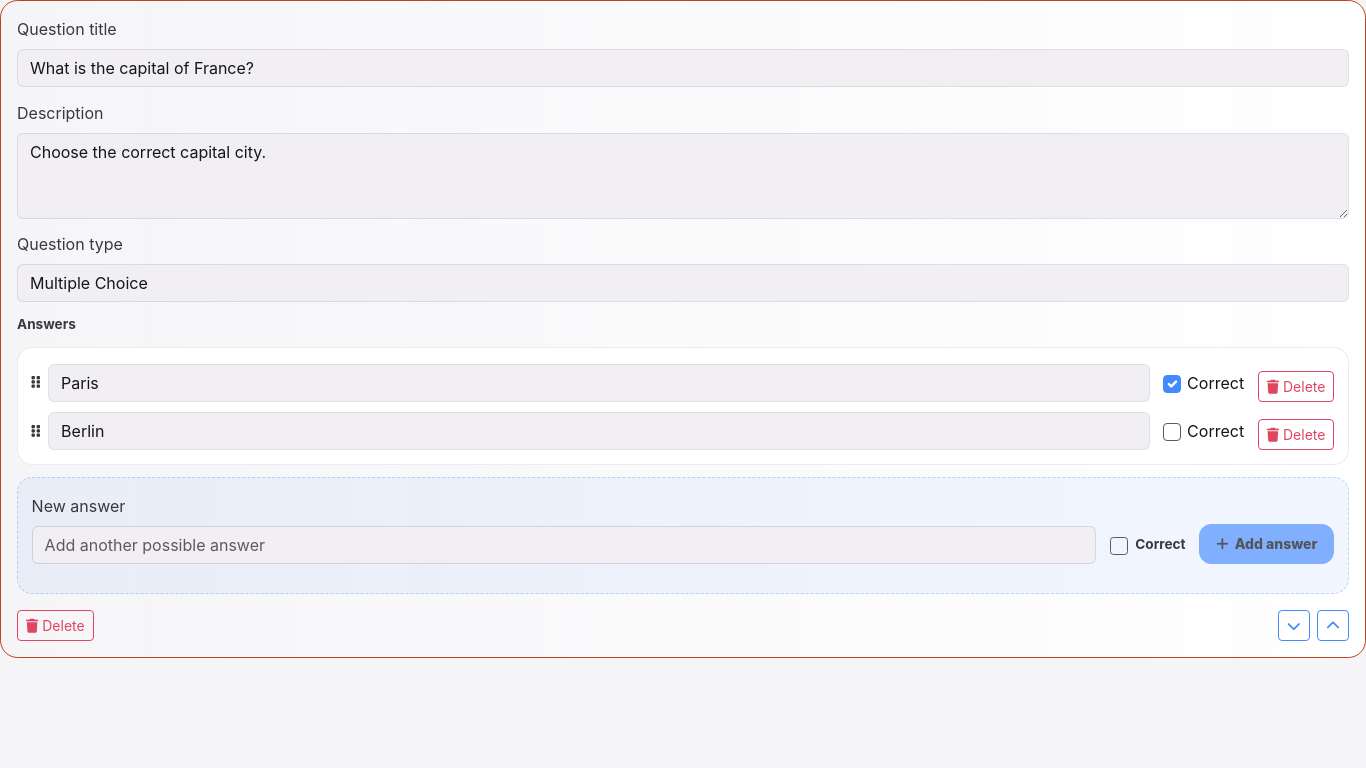
QuestionCard › shows error when creating answer fails
Type "Rome" into the field with placeholder "Add another possible answer".
click(564, 545); type("Rome")  # box [32, 526, 1096, 564]
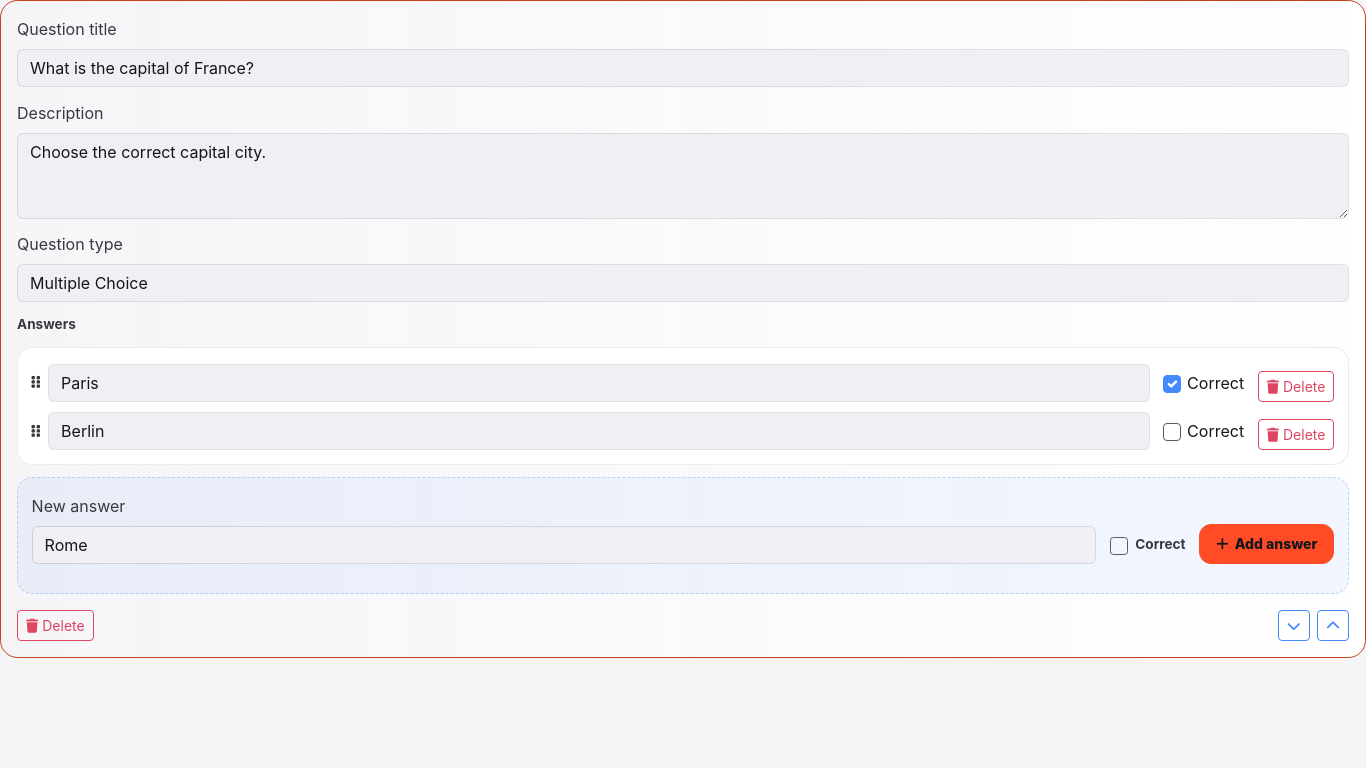
Click the button "Add answer".
click(1267, 544)  # box [1199, 524, 1334, 564]
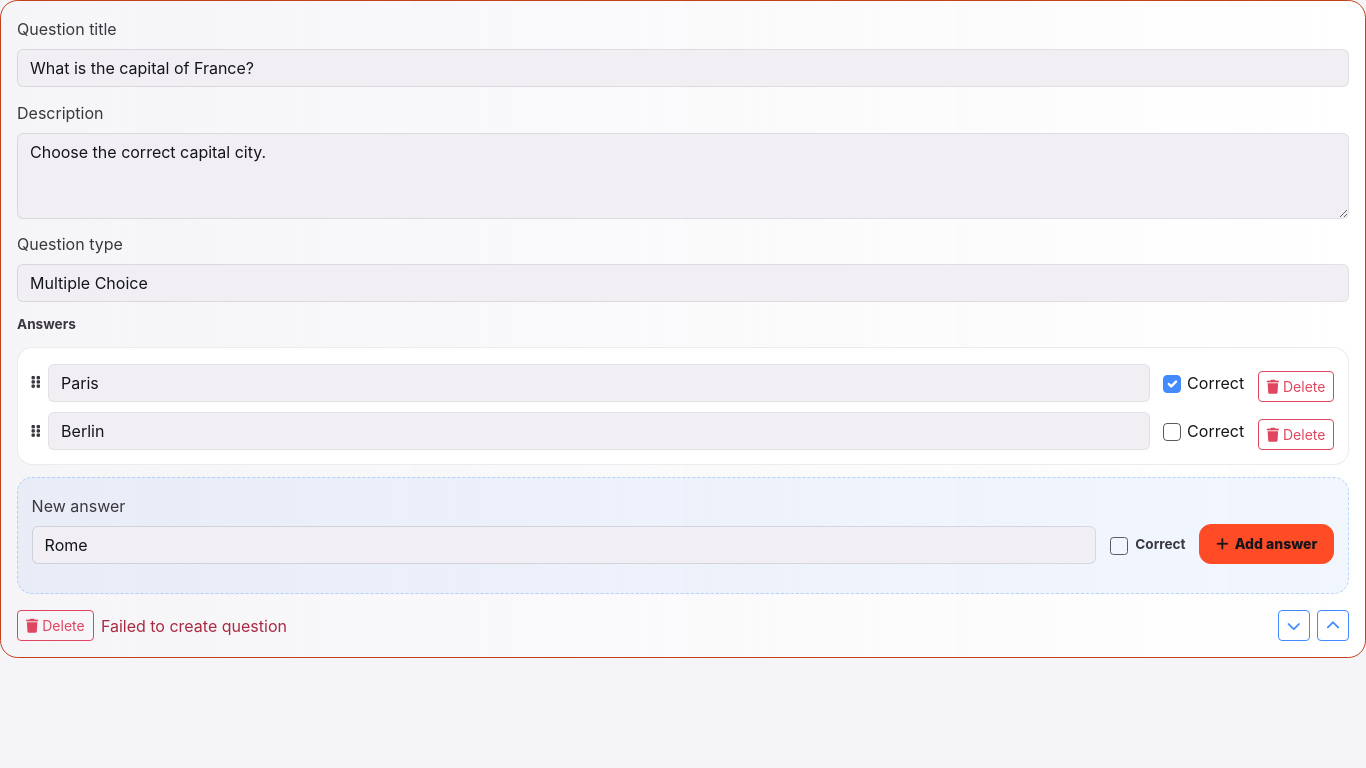
Now the text "Failed to create question" is shown, box [101, 614, 287, 638]
